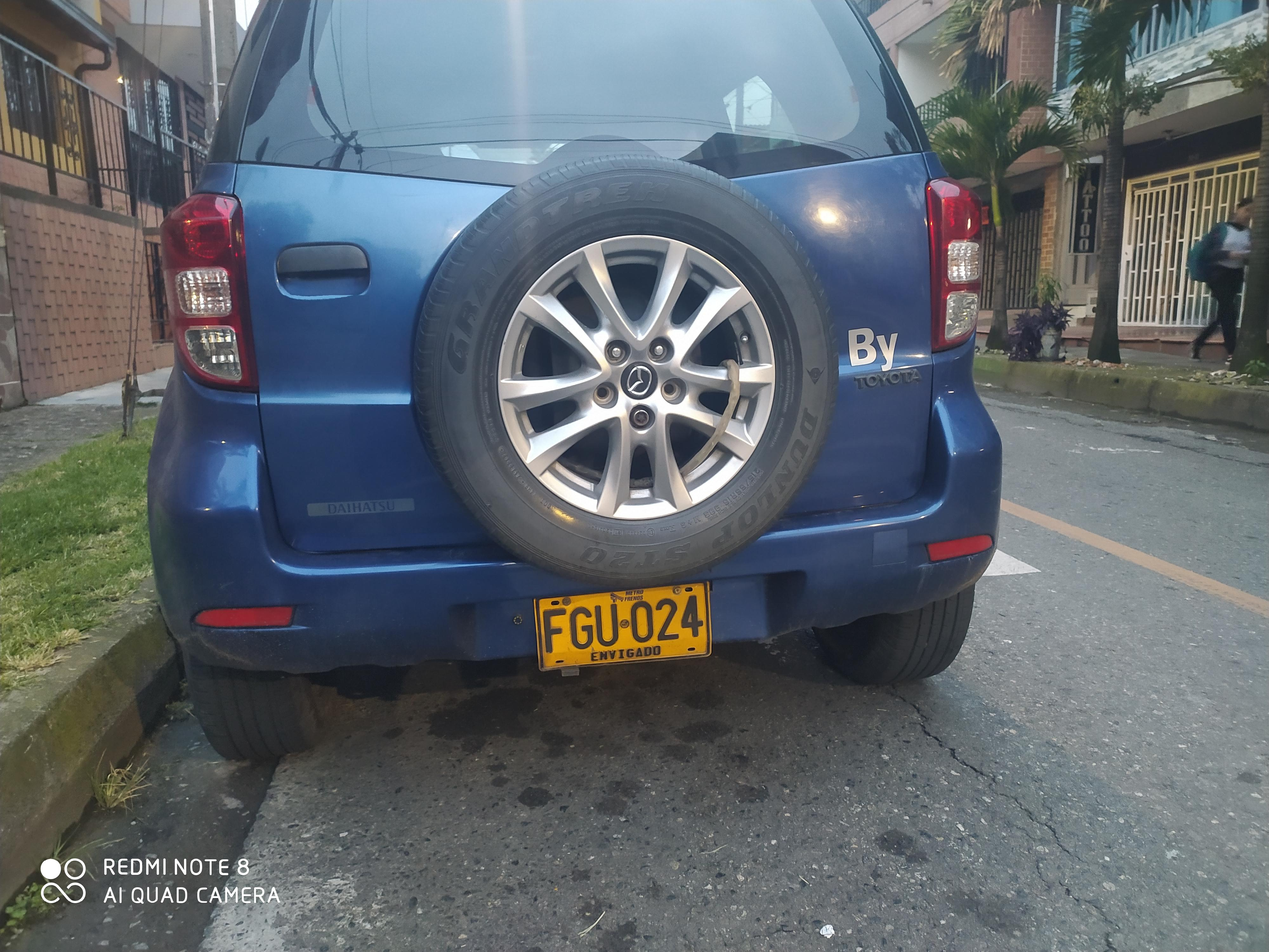placa: (516, 577, 721, 678)
